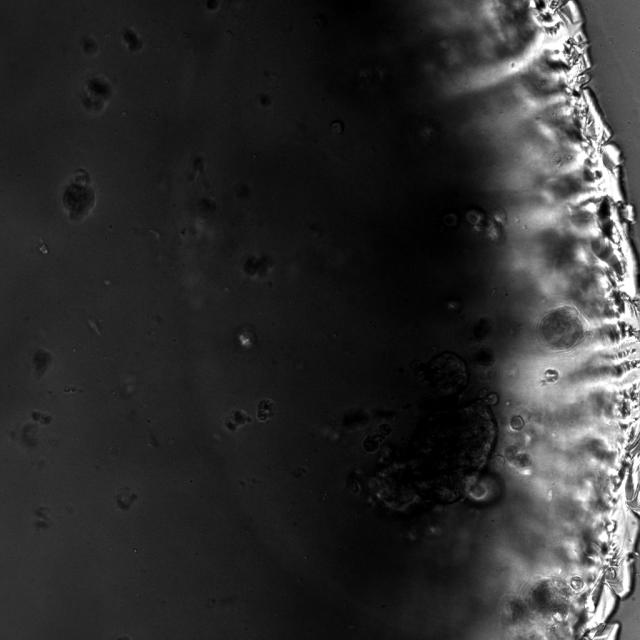organoid: (363, 352, 529, 514), (541, 306, 584, 351), (61, 168, 96, 221), (466, 207, 506, 243), (82, 75, 111, 114), (243, 254, 273, 279), (223, 410, 252, 432), (32, 349, 52, 377), (122, 27, 141, 53), (256, 399, 275, 421), (82, 34, 99, 57), (474, 348, 494, 366), (32, 410, 52, 425), (509, 415, 523, 431), (545, 369, 559, 382)
